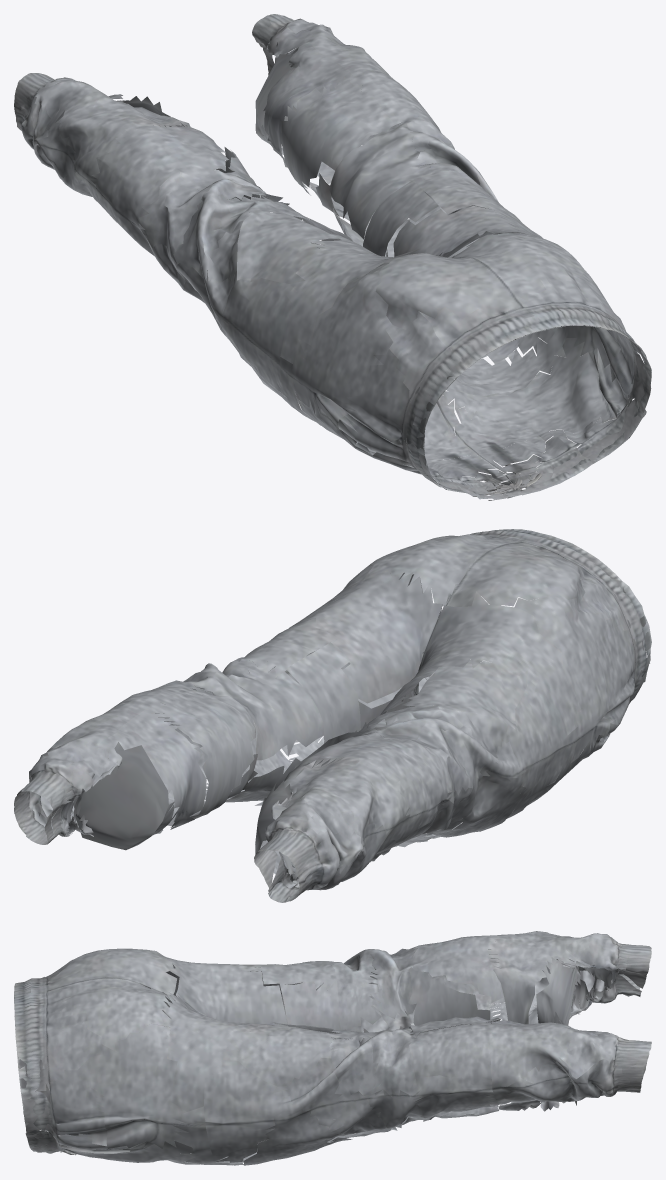
File: adult-base-01.glb
3 views of the same model, one above another, from view 1: azimuth 30°, elevation 25°; view 2: azimuth 150°, elevation 25°; view 3: azimuth 270°, elevation 25° (orthographic). The views are drawn at different scales.
Visible parts, largest first — view 1: geometry_0; view 2: geometry_0; view 3: geometry_0.
Part boxes in pixels (x1,y1,x2,y2): geometry_0: (14,14,651,500); geometry_0: (14,529,651,902); geometry_0: (14,931,651,1165).
Bounding box in the file's own units: 0.00463 × 0.00285 × 0.0097.
Materials: 1 (1 with a texture image).
